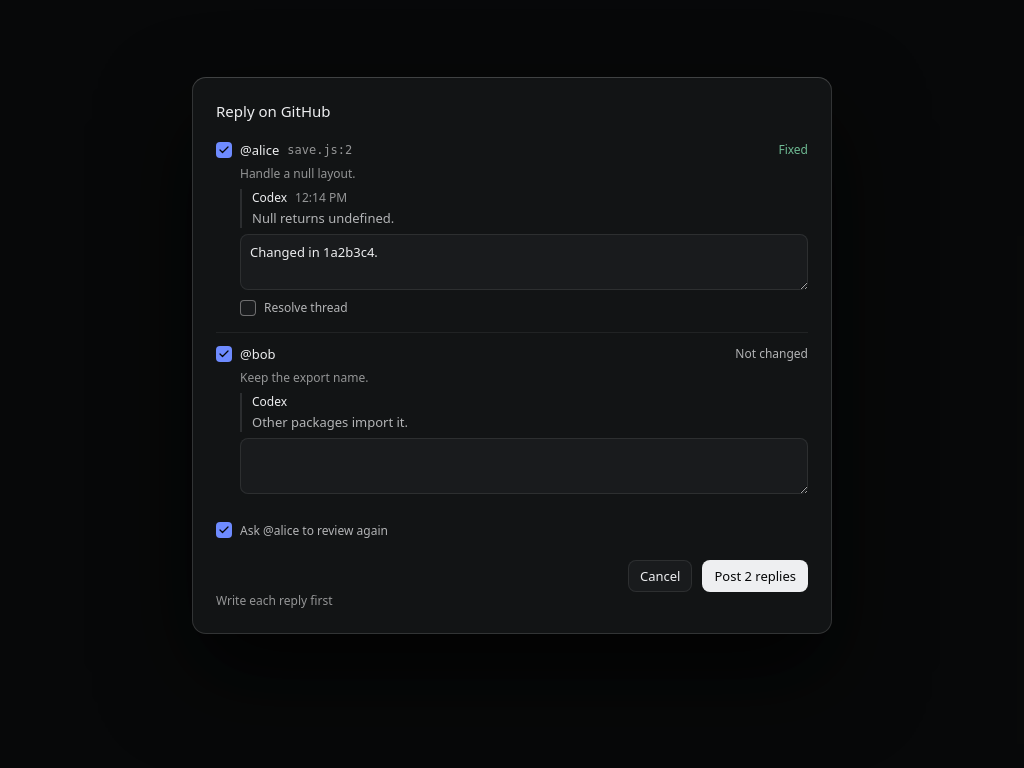
Test: ReplyToReviewersModal › quotes the agent for the person alone and posts only what they kept and wrote, resolving only what they chose
Expected: the text "Null returns undefined." shows "Codex", [252, 189, 287, 206]
Expected: the text box named "Reply to @alice" holds "Changed in 1a2b3c4.", [240, 234, 808, 290]
Click the checkbox labelled "Resolve thread" at point(248, 308), box [240, 300, 256, 316]
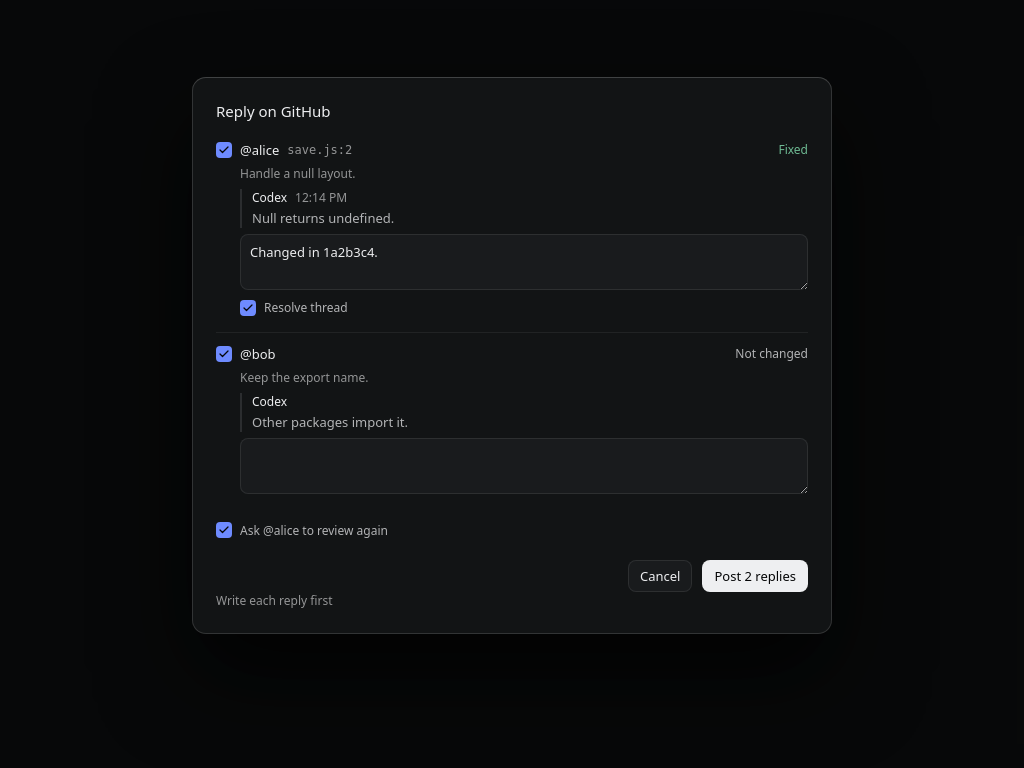
Type "Kept: other packages import it." into the text box named "Reply to @bob" at point(524, 466), box [240, 438, 808, 494]
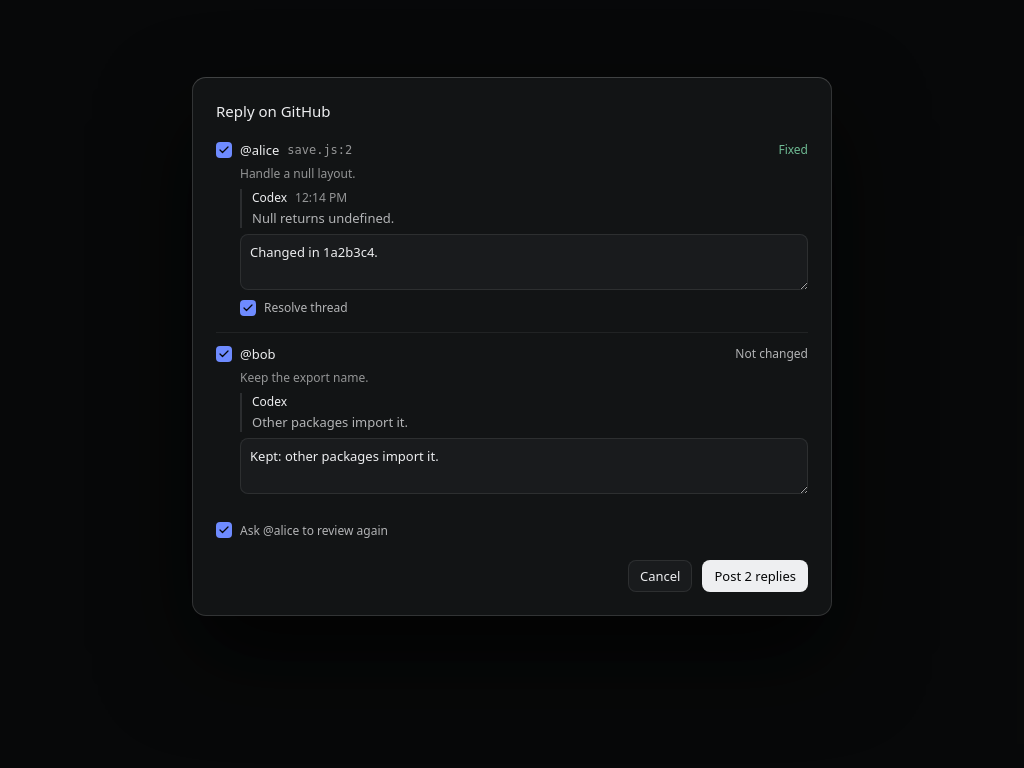
Click the checkbox labelled "Ask @alice to review again" at point(224, 530), box [216, 522, 232, 538]
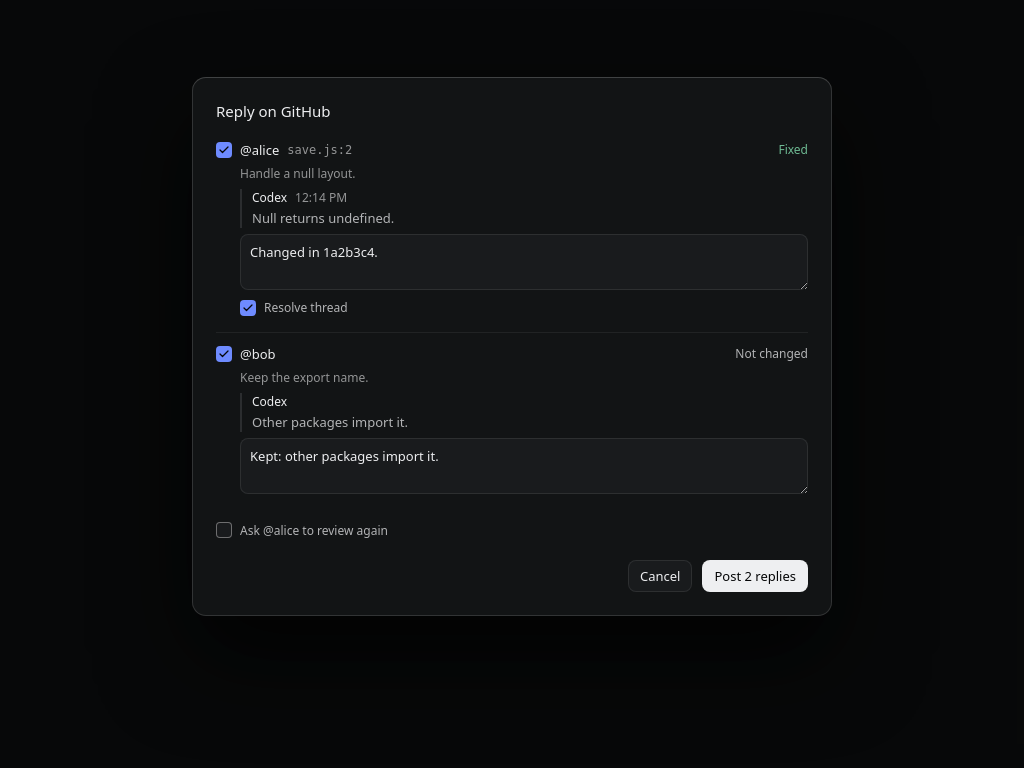
Click the button "Post 2 replies" at point(755, 576), box [702, 560, 808, 592]
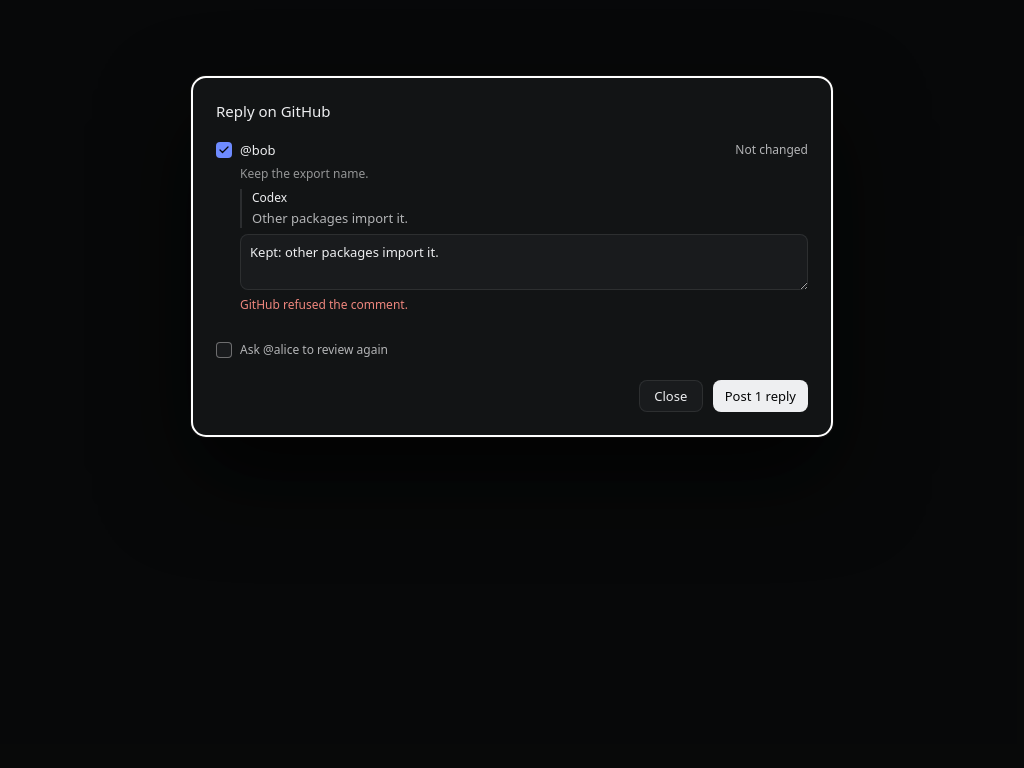
Result: the text "GitHub refused the comment." is shown at [240, 296, 408, 313]
